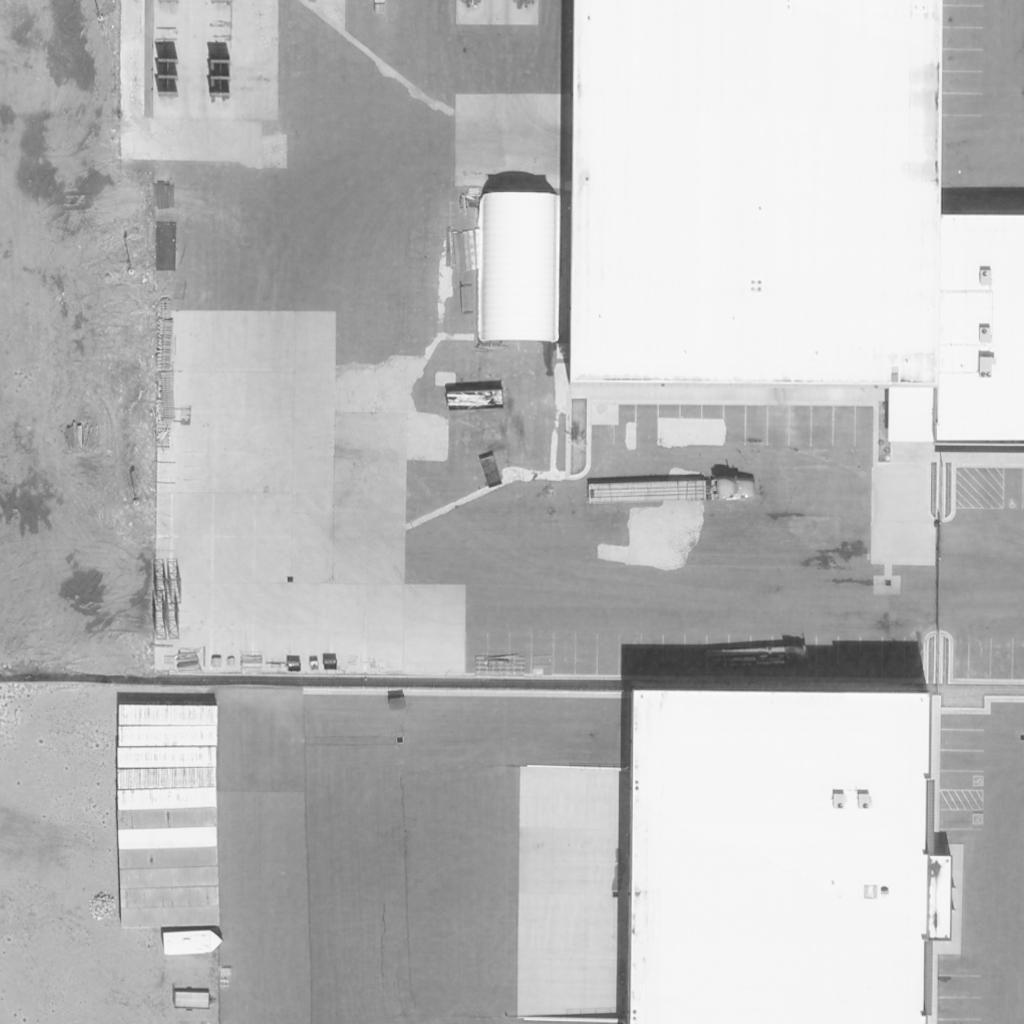vehicle: (584, 477, 760, 509), (161, 930, 225, 958)
